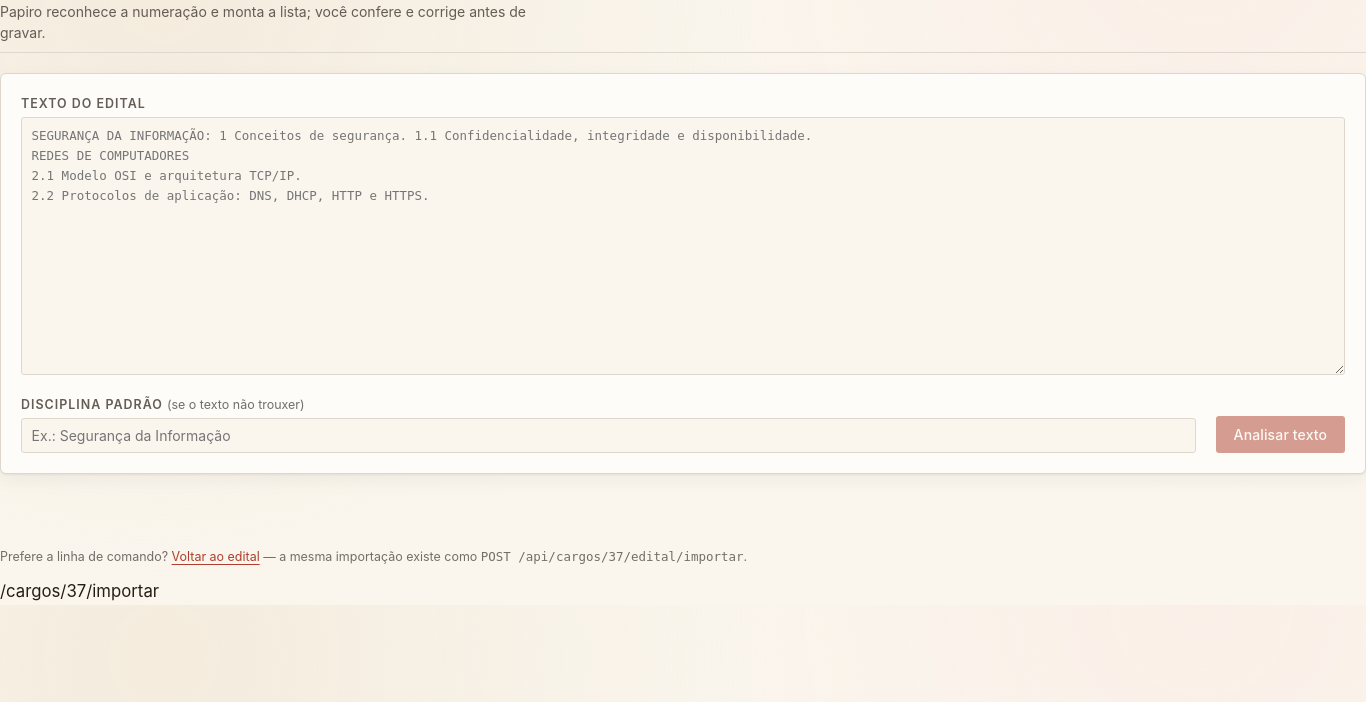
Scenario: PaginaImportar — conferencia editavel › erro do backend aparece na tela, sem sair da pagina
Click the text box labelled "Texto do edital" at (683, 246), box [21,117,1345,375]
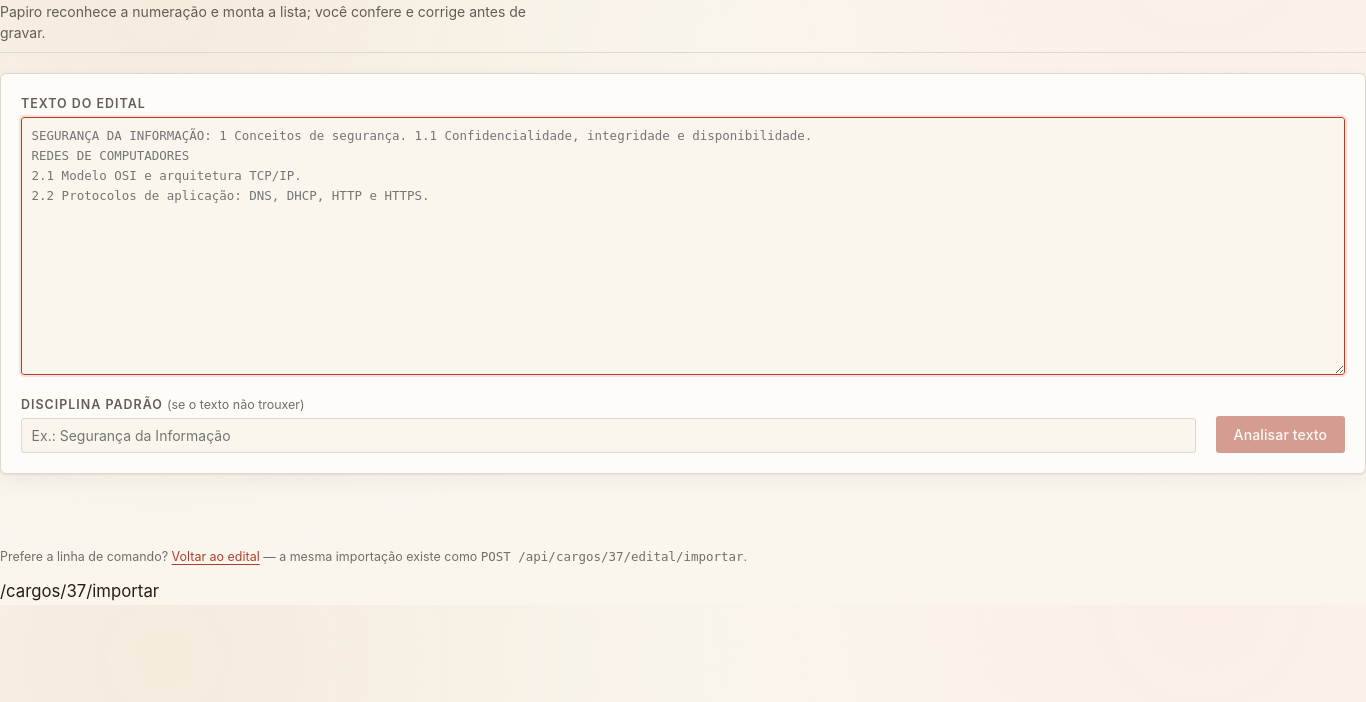
Type keys "SEGURANÇA DA INFORMAÇÃO 1.1 Confidencialidade e integridade. 1.2 Criptografia simétrica. REDES 2.1 Modelo OSI."
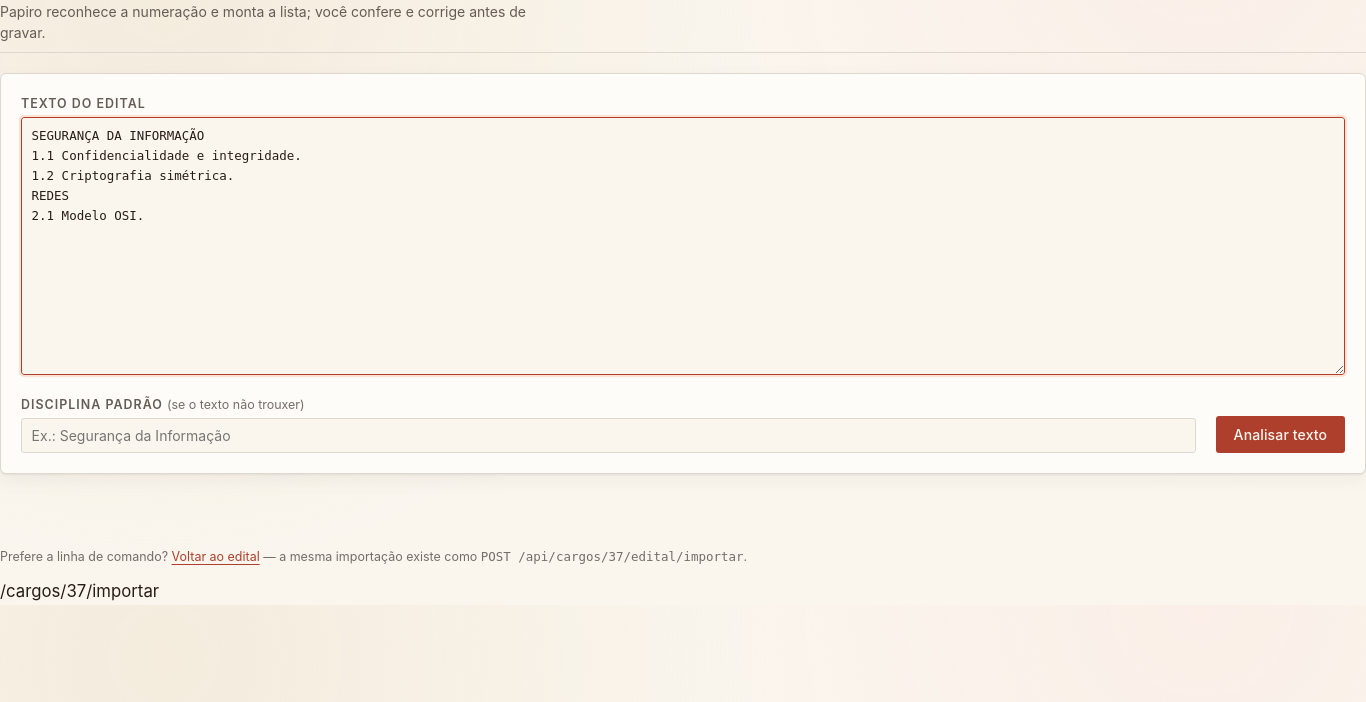
Click the button "Analisar texto" at (1280, 435), box [1216,416,1345,453]
(page scrolled)
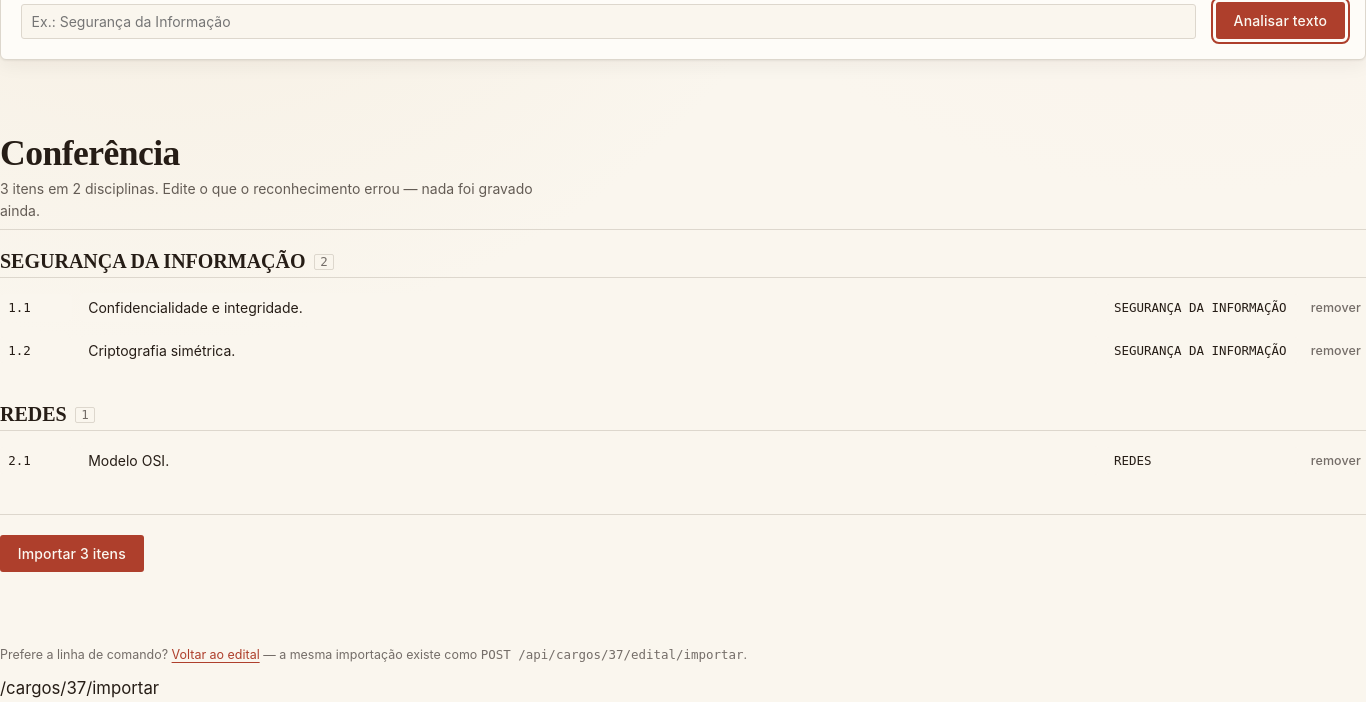
Click the button "Importar 3 itens" at (72, 553), box [0,535,144,572]
(page scrolled)
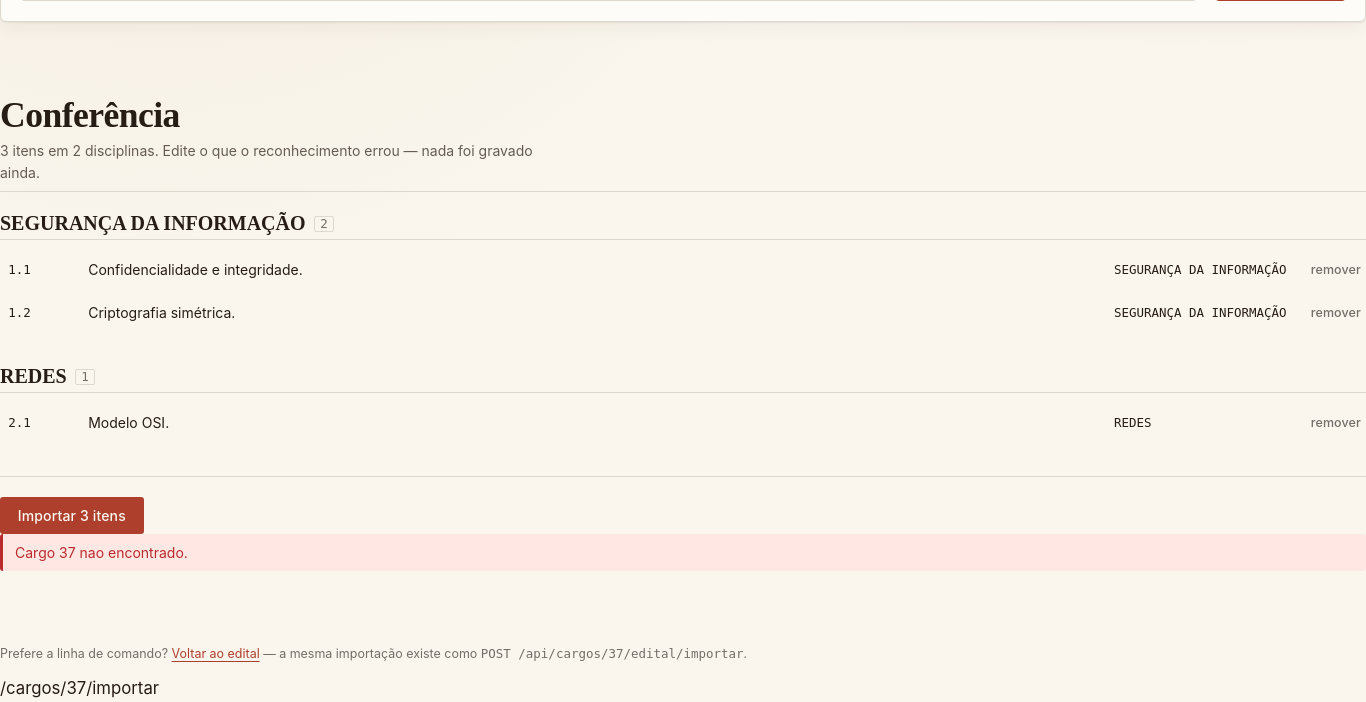
Expected: the text with test id "url" reads "/cargos/37/importar", [0,678,159,698]
Expected: the message reads "Cargo 37 nao encontrado.", [15,544,188,561]
